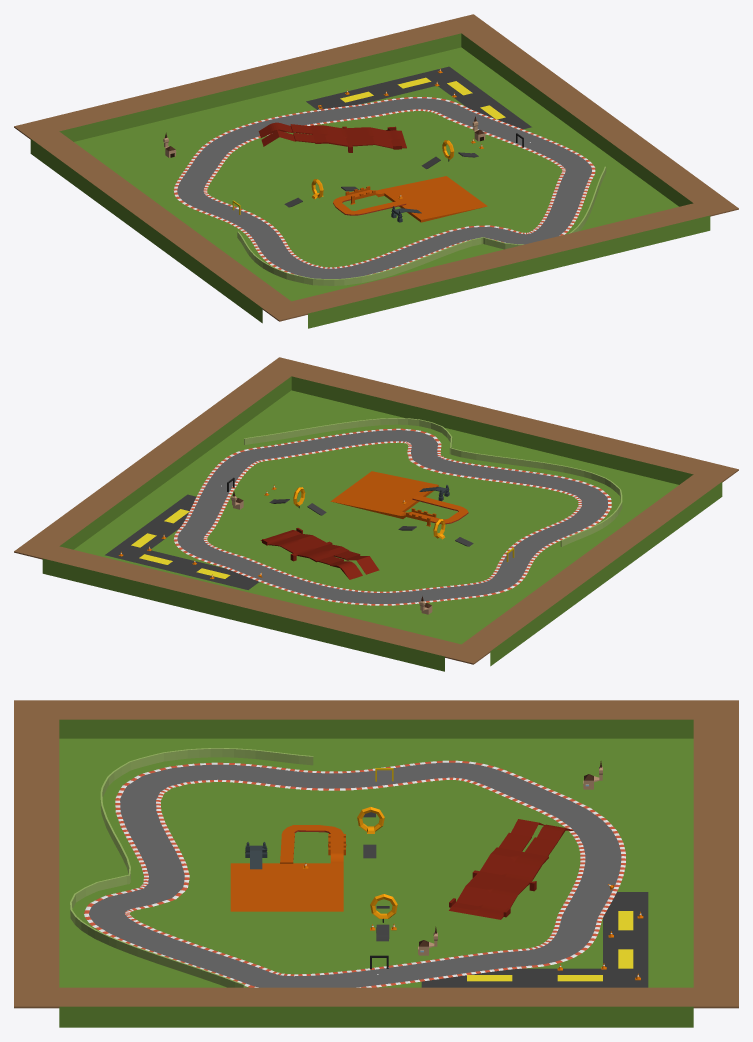
File: test-course.gltf
3 views of the same model, one above another, from view 1: azimuth 30°, elevation 25°; view 2: azimuth 150°, elevation 25°; view 3: azimuth 270°, elevation 25° (orthographic). The views are drawn at different scales.
Visible parts, largest first — view 1: ground, road-2, house.003, bridge, house.006; view 2: ground, road-2, house.003, house.006, bridge; view 3: ground, road-2, house.003, bridge, house.006, house, house.004.
Part boxes in pixels (left/top/right/bottom): ground: left=14, top=14, right=738, bottom=328; road-2: left=173, top=97, right=595, bottom=278; house.003: left=333, top=176, right=487, bottom=222; bridge: left=258, top=122, right=406, bottom=152; house.006: left=237, top=166, right=606, bottom=285; ground: left=14, top=357, right=738, bottom=671; road-2: left=174, top=428, right=611, bottom=605; house.003: left=330, top=471, right=468, bottom=526; house.006: left=244, top=418, right=622, bottom=546; bridge: left=260, top=528, right=379, bottom=579; ground: left=14, top=700, right=738, bottom=1027; road-2: left=84, top=760, right=625, bottom=987; house.003: left=230, top=825, right=346, bottom=911; bridge: left=449, top=819, right=573, bottom=919; house.006: left=70, top=748, right=313, bottom=987; house: left=370, top=894, right=397, bottom=941; house.004: left=357, top=807, right=384, bottom=858.
Bounding box in the file's own units: 800 × 43.23 × 800.
1 material, 1 textured.
